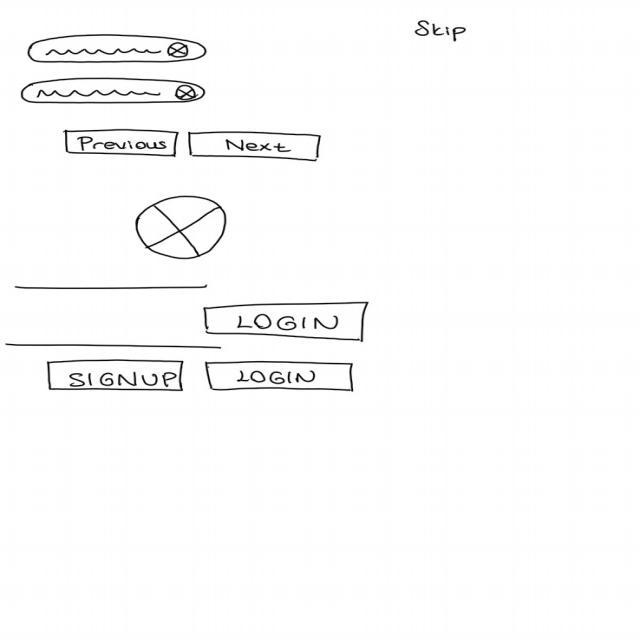button: (202, 300, 372, 344), (206, 359, 359, 395), (46, 358, 190, 394), (188, 130, 324, 163), (64, 127, 184, 160)
image: (133, 194, 231, 262)
label: (412, 19, 472, 47)
